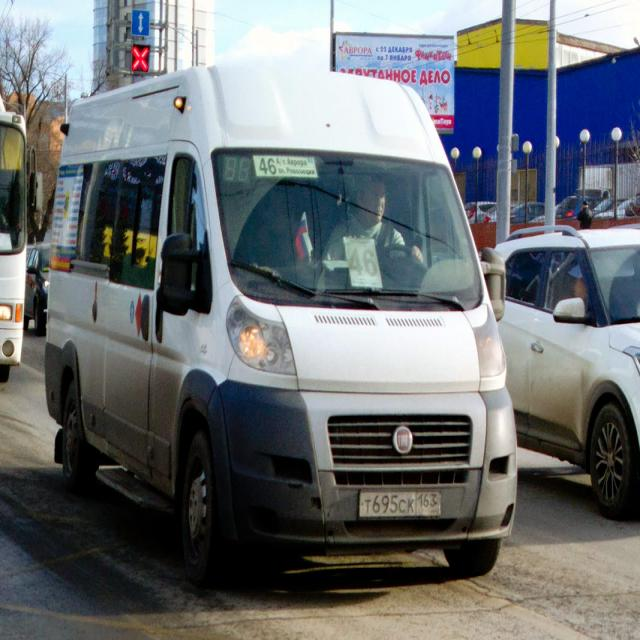number-of-bus: (347, 246, 383, 281), (258, 155, 279, 178)
